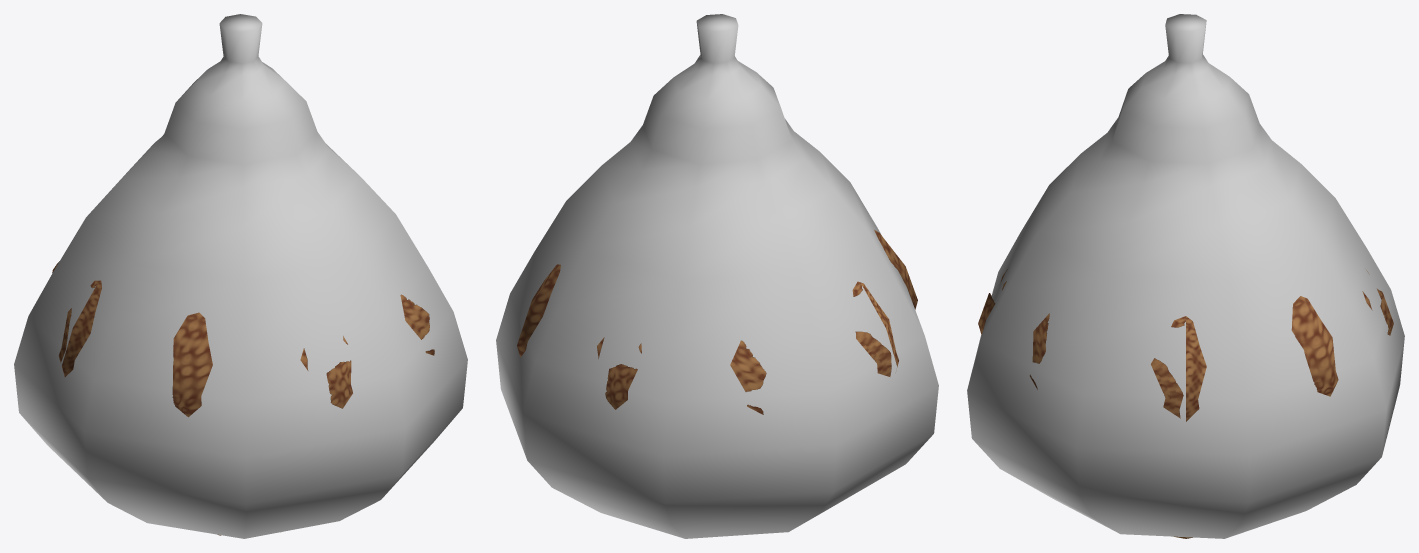
The model's file is African_baskets.fbx.
3 renders of one model, left to right at view 1: azimuth 30°, elevation 25°; view 2: azimuth 150°, elevation 25°; view 3: azimuth 270°, elevation 25°, orthographic.
Parts seen in each view (by area): view 1: Cylinder.002, Cylinder.006; view 2: Cylinder.002, Cylinder.006; view 3: Cylinder.002, Cylinder.006.
Boxes of the visible parts, x1,y1,x2,y2 form: Cylinder.002: (14, 14, 467, 538); Cylinder.006: (52, 261, 434, 417); Cylinder.002: (496, 14, 938, 538); Cylinder.006: (517, 230, 917, 414); Cylinder.002: (967, 14, 1404, 538); Cylinder.006: (978, 268, 1393, 421).
Bounding box in the file's own units: 339 × 412 × 339.
